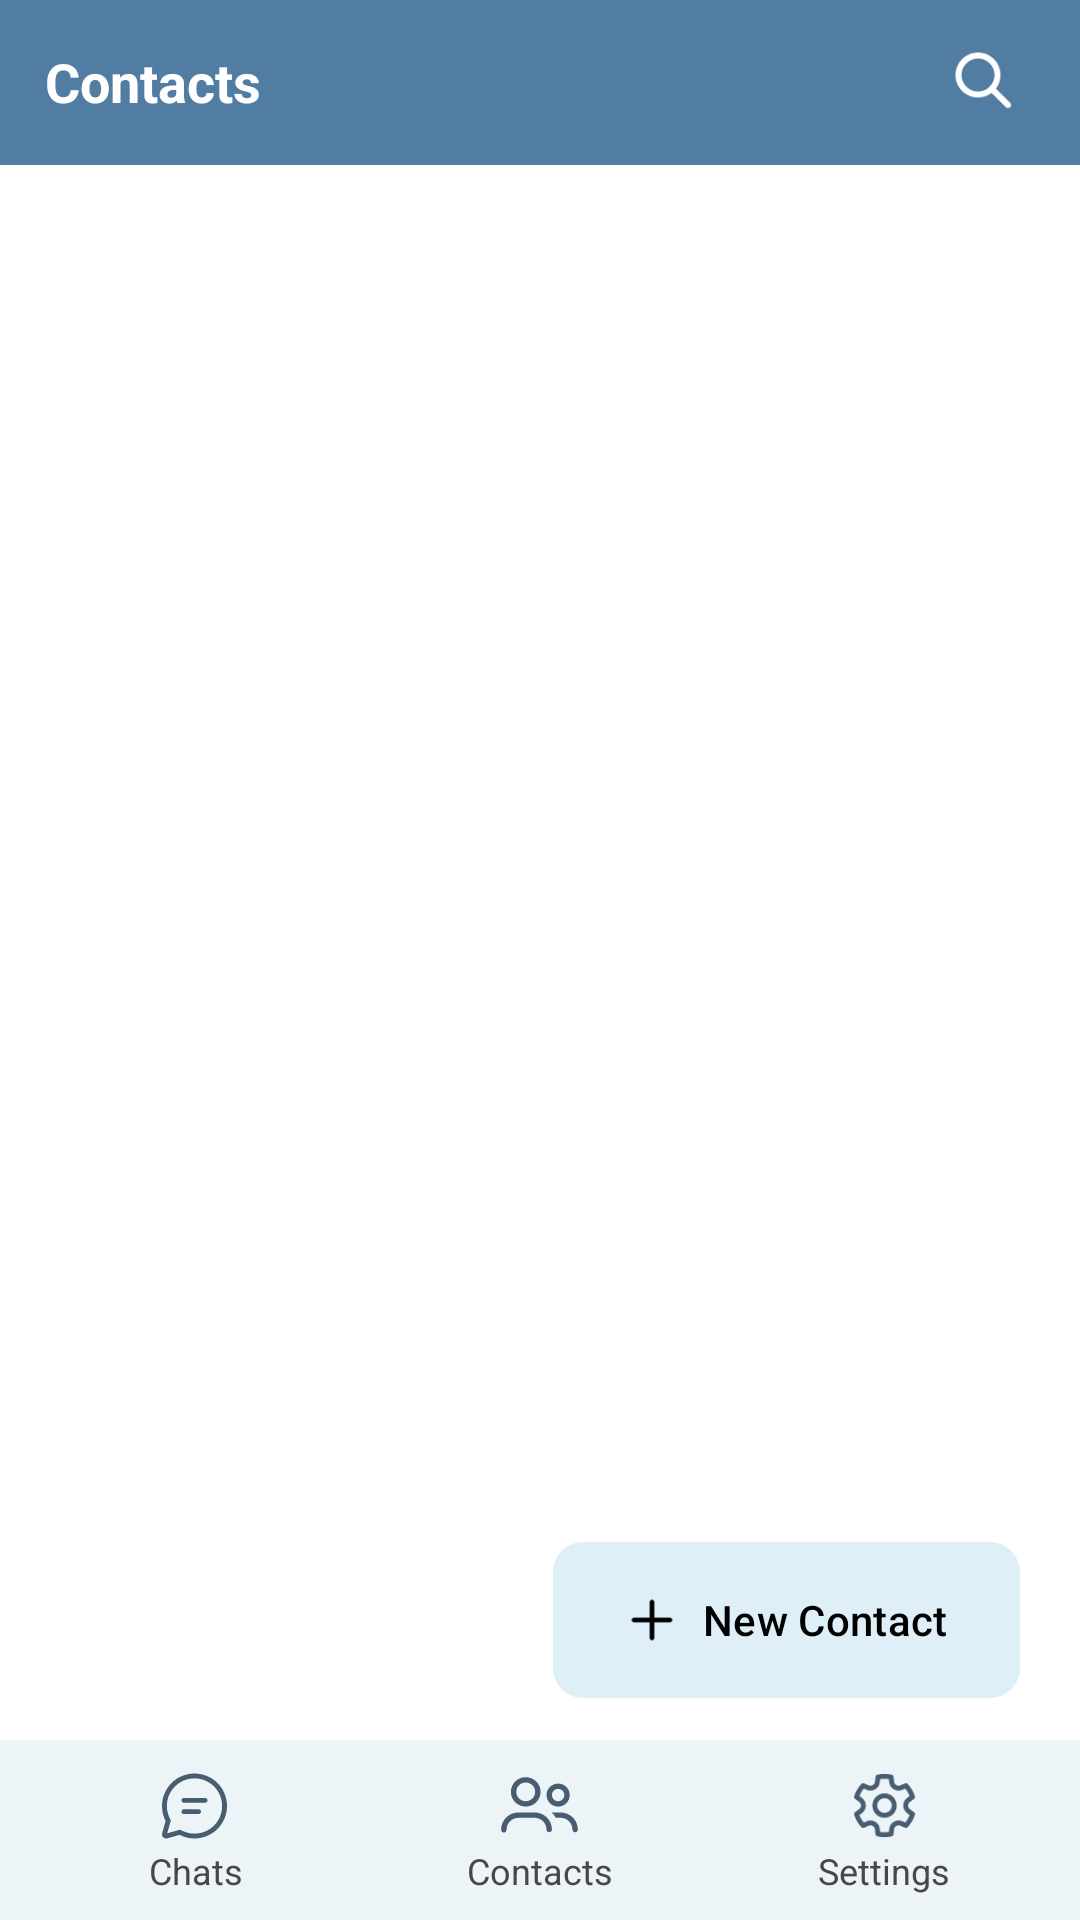

Icon bounding boxes for this 1080px x 1920px phone screenshot, format (x1, y1, x2, y2):
search: (955, 52, 1012, 109)
